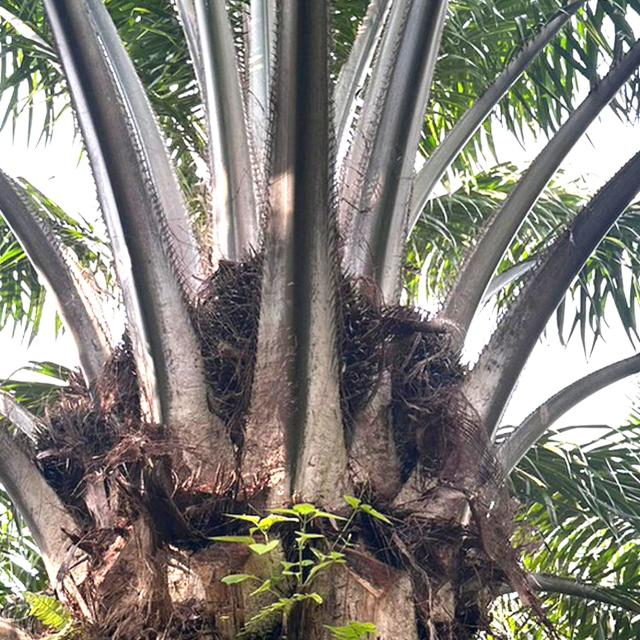unripe: (197, 242, 389, 418)
